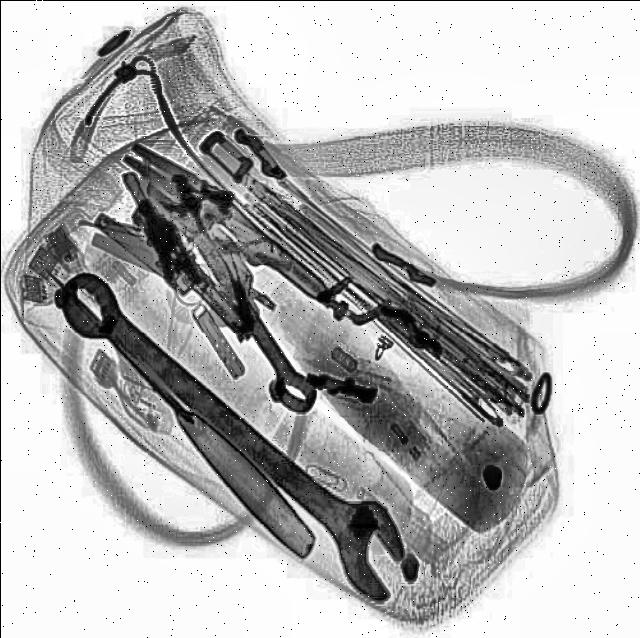Gun: (112, 158, 252, 356)
Knife: (26, 264, 326, 564)
Wrench: (34, 254, 433, 610), (138, 169, 328, 422)
